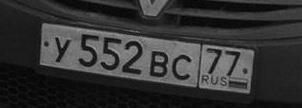license-plateSW: (38, 23, 252, 94)
